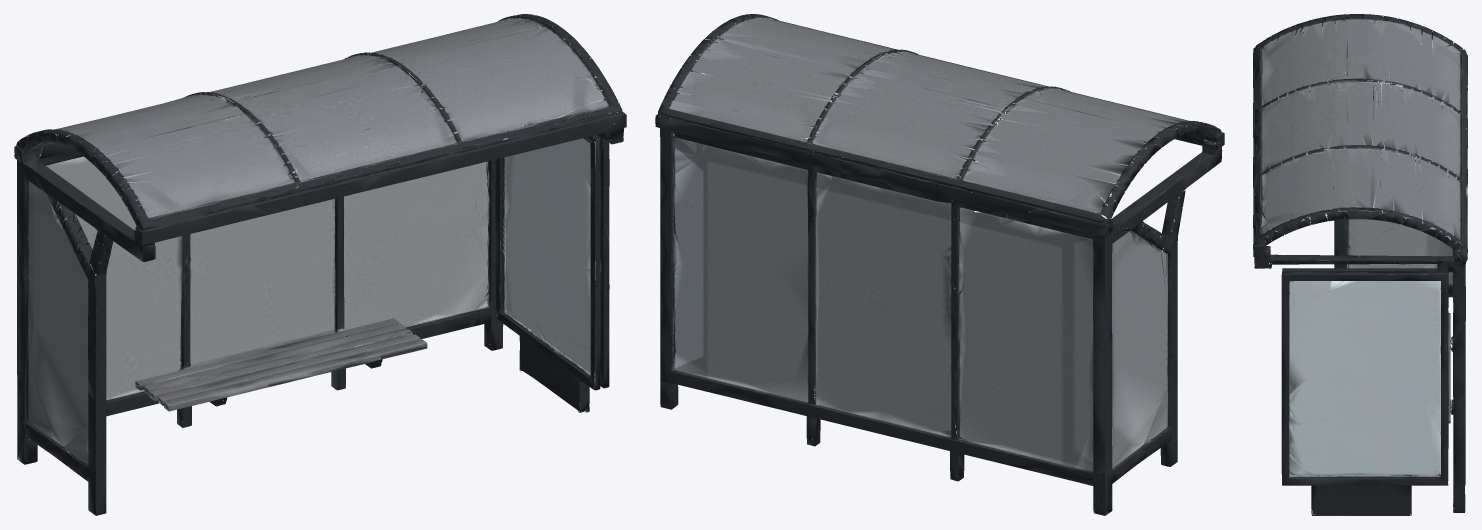
The model's file is bus-shelter.glb.
The picture shows the model from 3 angles, left to right: view 1: azimuth 30°, elevation 25°; view 2: azimuth 150°, elevation 25°; view 3: azimuth 270°, elevation 25°; orthographic projection. The views are drawn at different scales.
Size of the model in its own units: 1.9 by 1.36 by 0.8697.
Materials: 1 (1 with a texture image).
